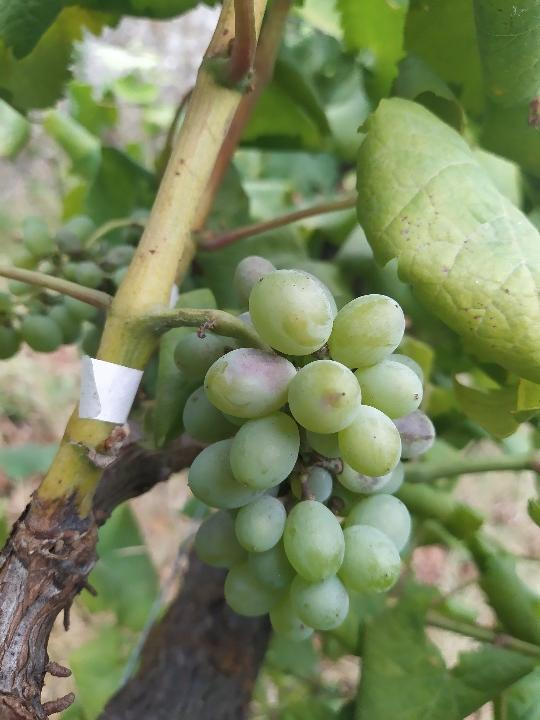grape: (166, 258, 441, 648)
